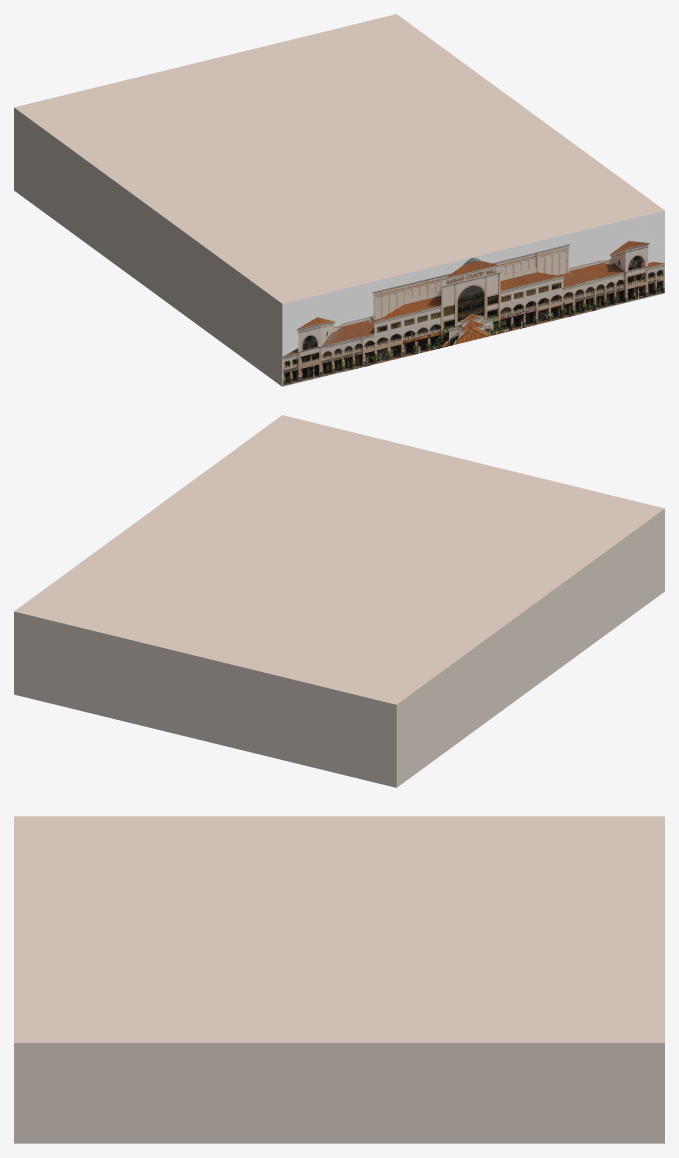
The model's file is gaisano_aspect.glb.
3 views of the same model, one above another, from view 1: azimuth 30°, elevation 25°; view 2: azimuth 150°, elevation 25°; view 3: azimuth 270°, elevation 25° (orthographic). The views are drawn at different scales.
Visible parts, largest first — view 1: gaisano_aspect; view 2: gaisano_aspect; view 3: gaisano_aspect.
Boxes of the visible parts, x1,y1,x2,y2 form: gaisano_aspect: [14, 14, 664, 386]; gaisano_aspect: [14, 415, 664, 787]; gaisano_aspect: [14, 816, 664, 1143].
Size of the model in its own units: 79.03 by 16.4 by 96.
Materials: 3 (1 with a texture image).
